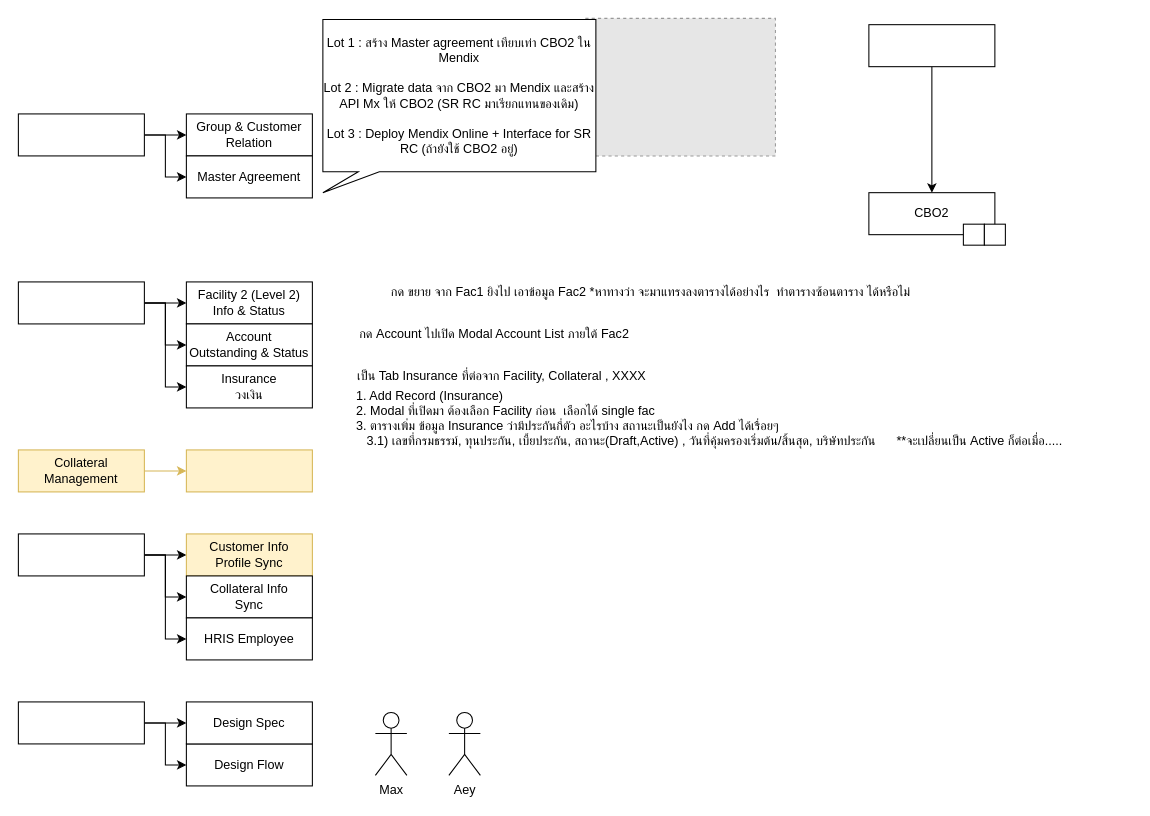
Some shapes in this 1150 by 816 pixel diagram are drawn without their labels. Grey dashed boxes stand in for pictures. The centre of each missing label's shape, as x and y in pixels:
"CIAW Interface" belongs at (x=80, y=722).
"Customer & Group" belongs at (x=80, y=134).
"EOD Batch" belongs at (x=80, y=554).
"Facility Management" belongs at (x=80, y=302).
"Insurance หลักประกัน" belongs at (x=248, y=470).
"Mendix" belongs at (x=931, y=45).
